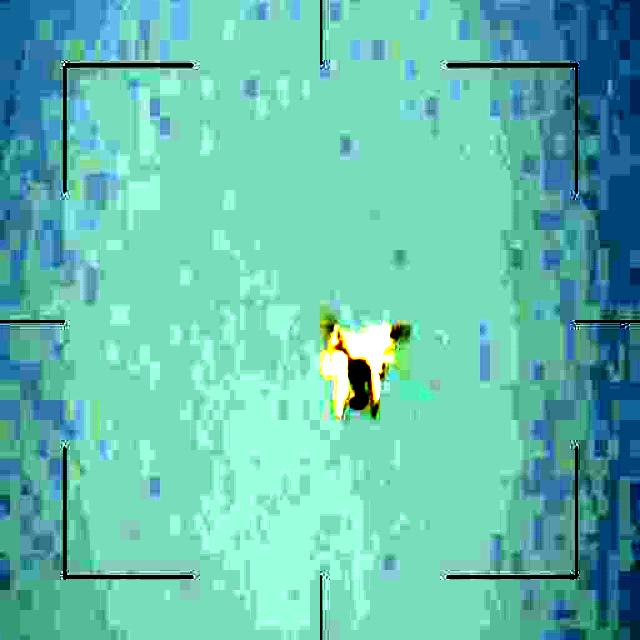bird: (314, 314, 398, 425)
